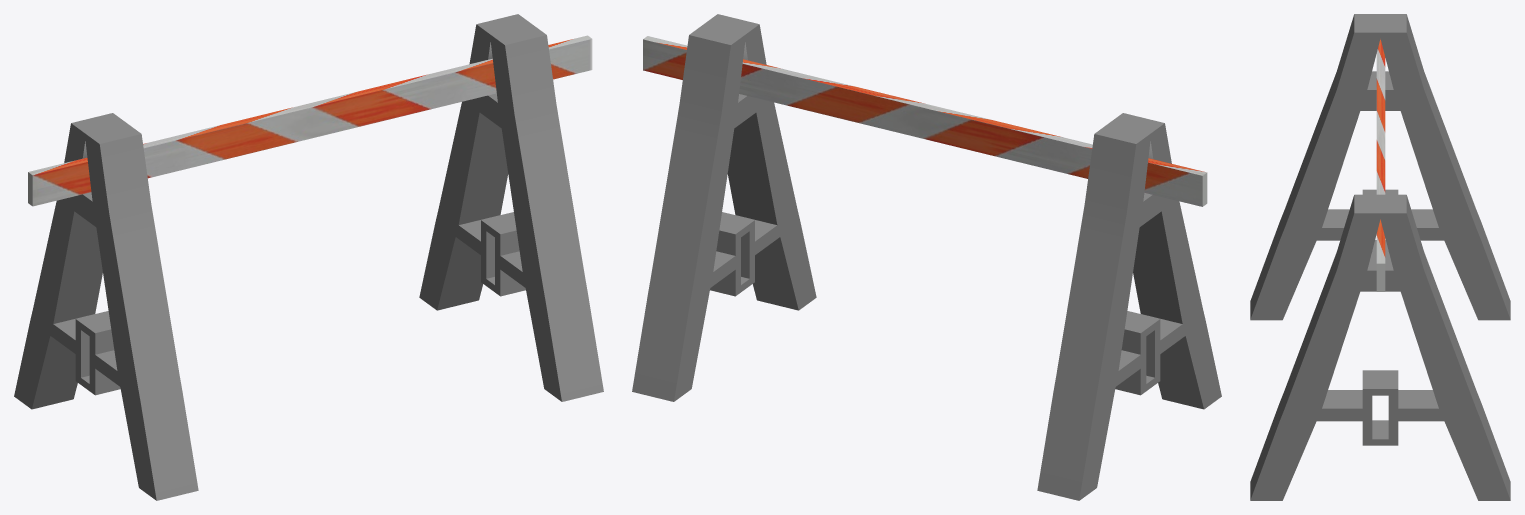
The model's file is barricade.FBX.
3 renders of one model, left to right at view 1: azimuth 30°, elevation 25°; view 2: azimuth 150°, elevation 25°; view 3: azimuth 270°, elevation 25°, orthographic. The views are drawn at different scales.
Parts seen in each view (by area): view 1: Box003; view 2: Box003; view 3: Box003.
Boxes of the visible parts, box(x1,y1,x2,y2) form: Box003: box(14, 14, 603, 500); Box003: box(632, 14, 1221, 500); Box003: box(1250, 14, 1510, 500).
Size of the model in its own units: 200 by 108 by 88.42.
Materials: 2 (1 with a texture image).
